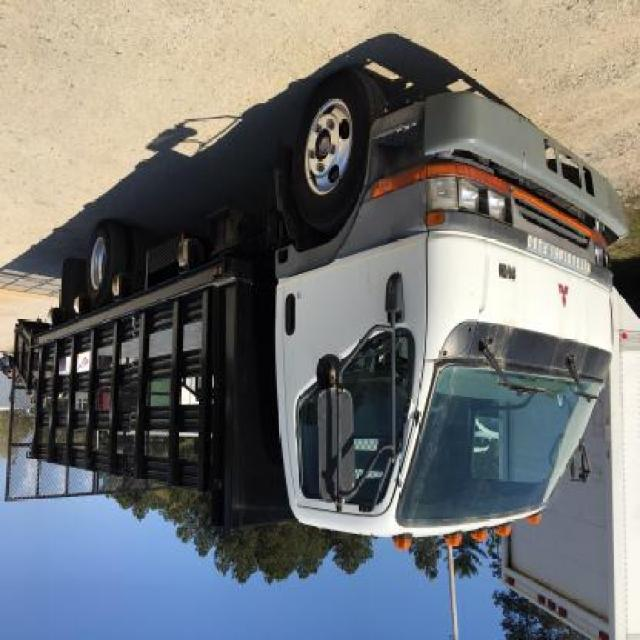truck: (6, 67, 628, 558)
